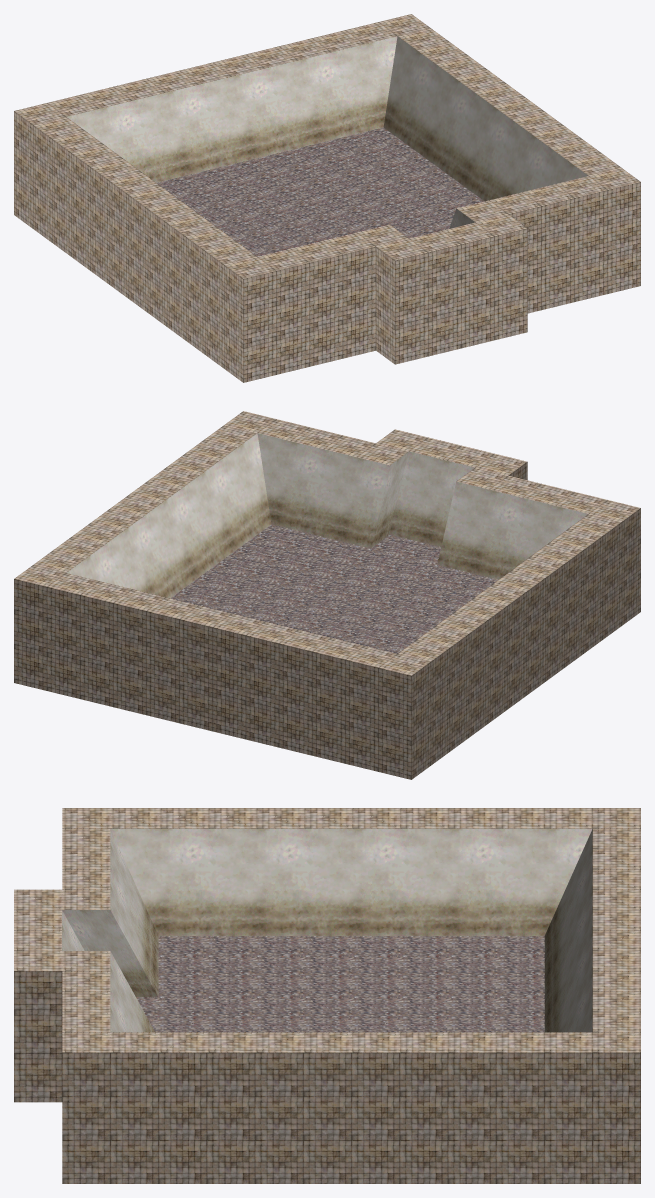
The model's file is singleRoom.obj.
3 views of the same model, one above another, from view 1: azimuth 30°, elevation 25°; view 2: azimuth 150°, elevation 25°; view 3: azimuth 270°, elevation 25° (orthographic). The views are drawn at different scales.
Visible parts, largest first — view 1: meshSingleRoom; view 2: meshSingleRoom; view 3: meshSingleRoom.
Part boxes in pixels (x1=…): meshSingleRoom: x1=14, y1=14, x2=640, y2=382; meshSingleRoom: x1=14, y1=411, x2=640, y2=779; meshSingleRoom: x1=14, y1=808, x2=640, y2=1183.
Bounding box in the file's own units: 12 × 3 × 13.
